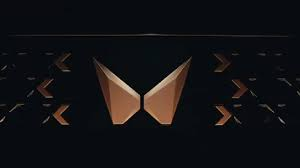XUV 400: (15, 34, 289, 137)
